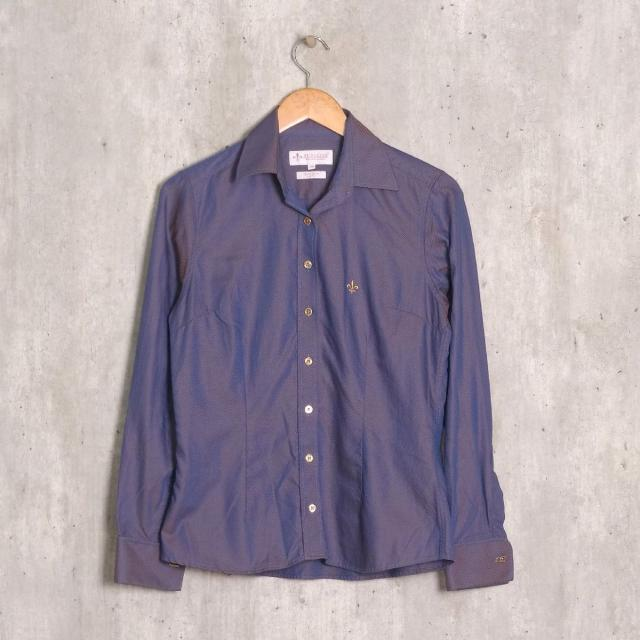long sleeve shirt: (110, 95, 523, 599)
